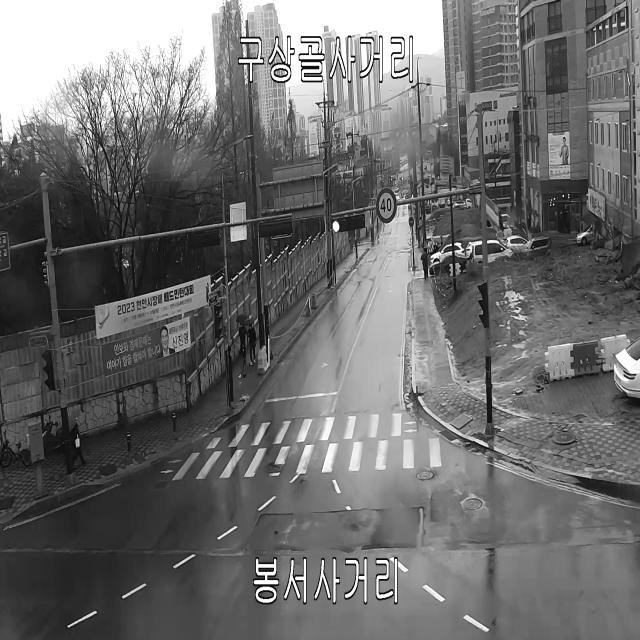Car: (613, 336, 640, 399), (472, 240, 514, 263), (429, 253, 467, 276), (430, 243, 466, 265), (576, 223, 603, 245), (524, 235, 552, 255), (504, 235, 529, 251), (426, 208, 450, 223), (466, 240, 482, 259), (454, 198, 472, 208), (437, 197, 445, 207), (425, 205, 431, 212), (448, 197, 453, 205)
